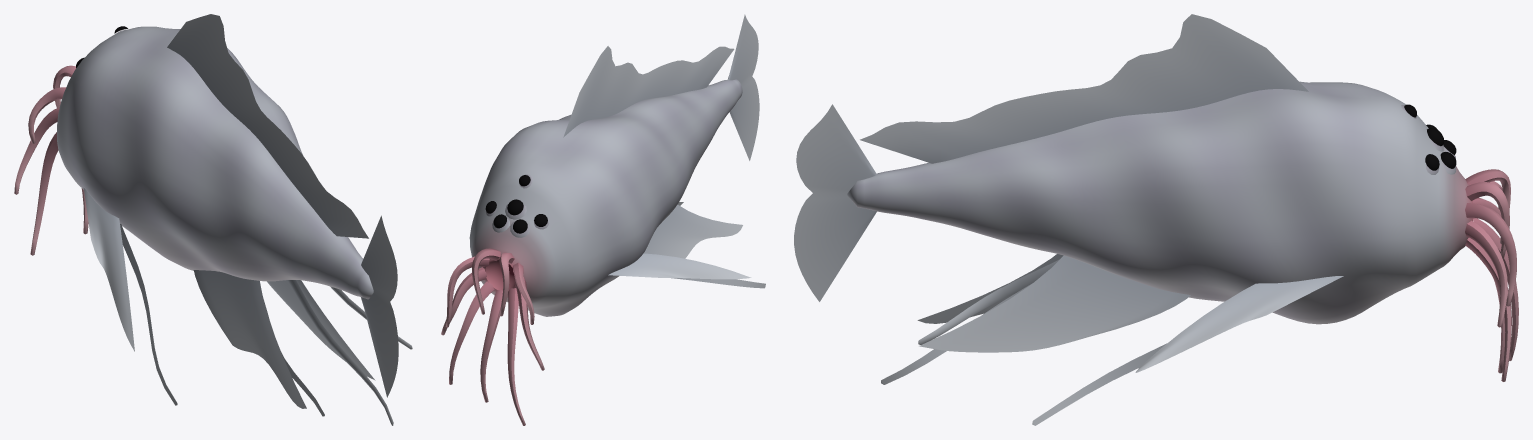
The model's file is deep_spawn.glb.
3 renders of one model, left to right at view 1: azimuth 30°, elevation 25°; view 2: azimuth 150°, elevation 25°; view 3: azimuth 270°, elevation 25°, orthographic. The views are drawn at different scales.
Visible parts, largest first — view 1: deep_spawn; view 2: deep_spawn; view 3: deep_spawn.
Part boxes in pixels (left/top/right/bottom): deep_spawn: left=14, top=14, right=412, bottom=425; deep_spawn: left=441, top=14, right=765, bottom=425; deep_spawn: left=794, top=14, right=1518, bottom=425.
Size of the model in its own units: 0.6978 by 0.8961 by 1.59.
